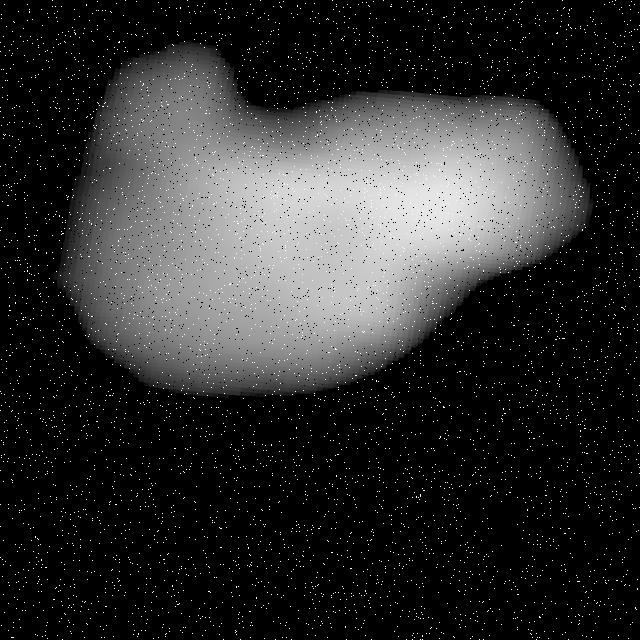person: (1, 54, 638, 430)
